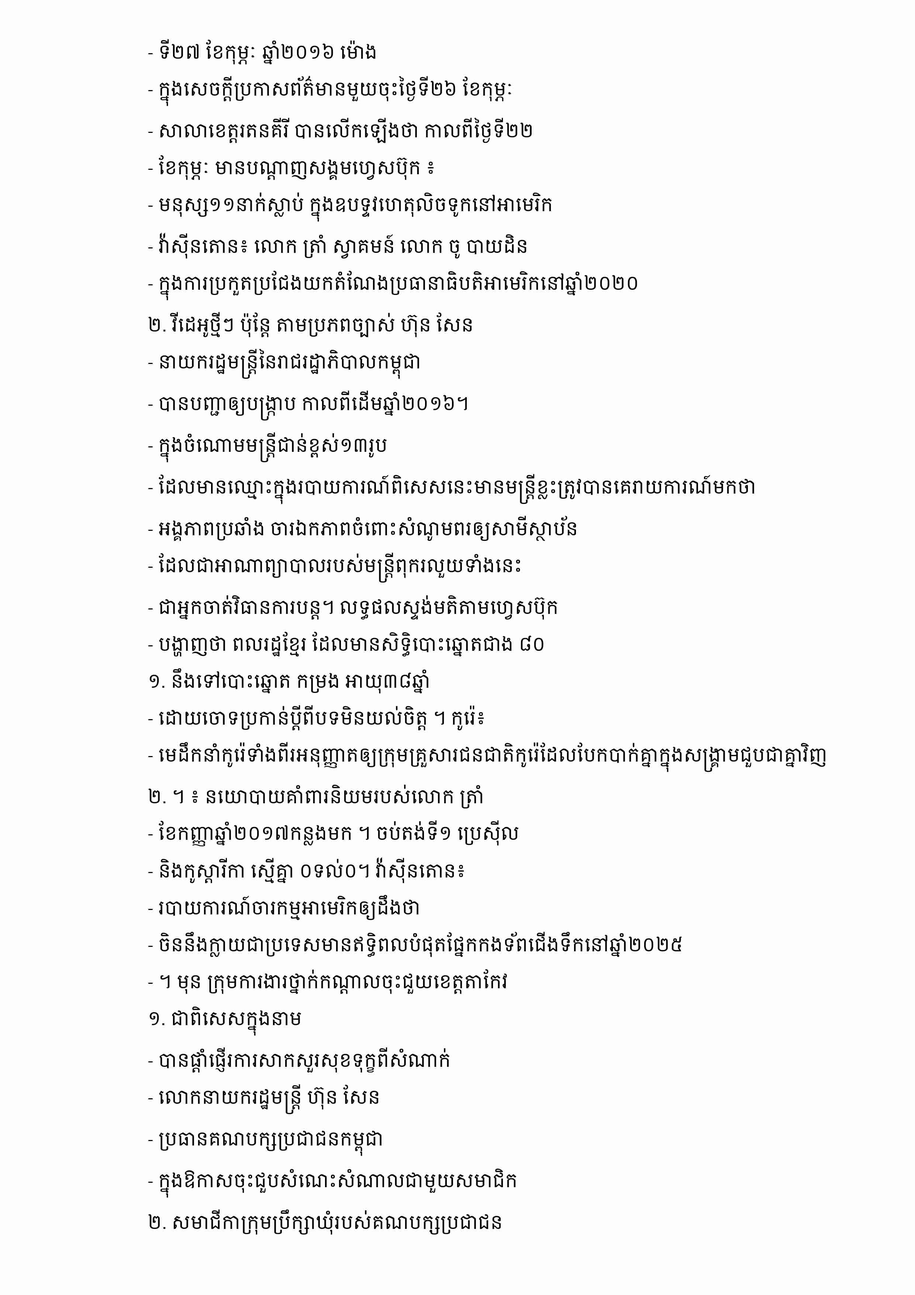text: (148, 742, 832, 772), (148, 474, 761, 504), (148, 271, 644, 300), (148, 932, 688, 957), (148, 192, 558, 222), (148, 553, 527, 583), (148, 1168, 523, 1198), (148, 76, 519, 106), (148, 516, 583, 541), (148, 595, 563, 620), (148, 632, 550, 657), (148, 233, 533, 259), (148, 391, 474, 421), (148, 820, 524, 846), (148, 118, 539, 143), (148, 1209, 508, 1235), (148, 969, 513, 994), (148, 705, 491, 731), (148, 784, 489, 809), (148, 857, 471, 883), (148, 349, 426, 379), (148, 312, 479, 337), (148, 1047, 456, 1073), (148, 432, 392, 463), (148, 668, 435, 694), (148, 155, 441, 180), (148, 1084, 385, 1114), (148, 895, 425, 920), (148, 39, 383, 65), (148, 1131, 389, 1156), (148, 1006, 307, 1036)
